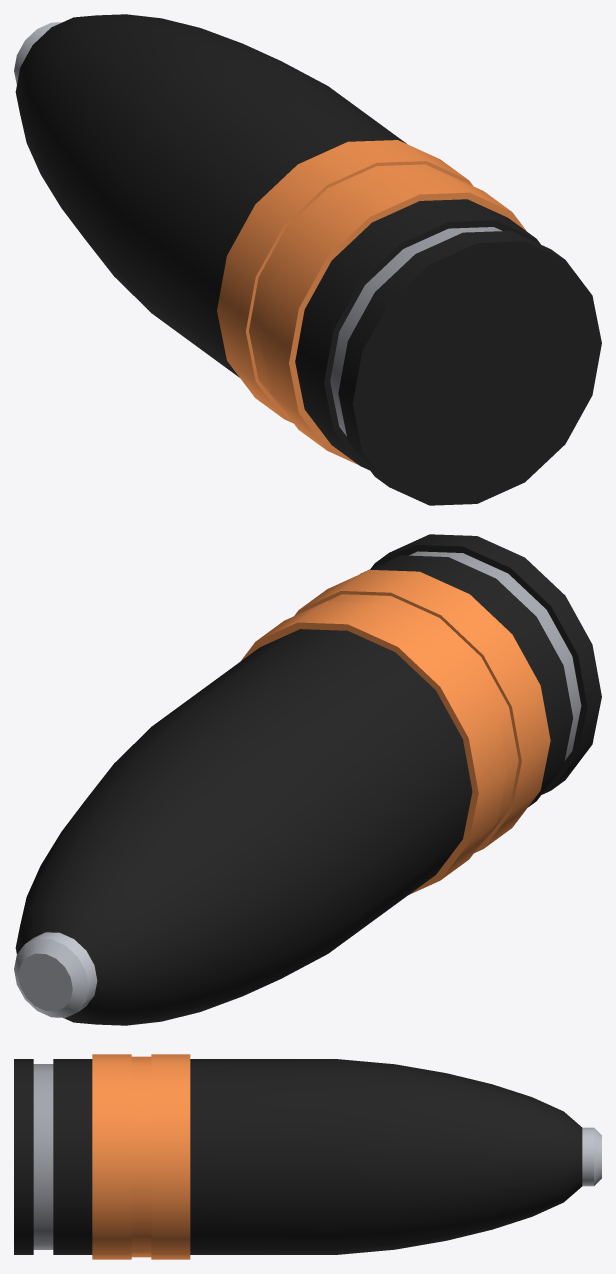
The model's file is he_bullet_SprgrL_5_128mm.fbx.
The picture shows the model from 3 angles, top to bottom: view 1: azimuth 30°, elevation 25°; view 2: azimuth 150°, elevation 25°; view 3: azimuth 270°, elevation 25°; orthographic projection. The views are drawn at different scales.
Parts seen in each view (by area): view 1: Cylinder; view 2: Cylinder; view 3: Cylinder.
Part boxes in pixels (<box>): Cylinder: <box>14,14,601,505</box>; Cylinder: <box>14,534,601,1025</box>; Cylinder: <box>14,1054,601,1259</box>.
Size of the model in its own units: 105 by 105 by 300.
